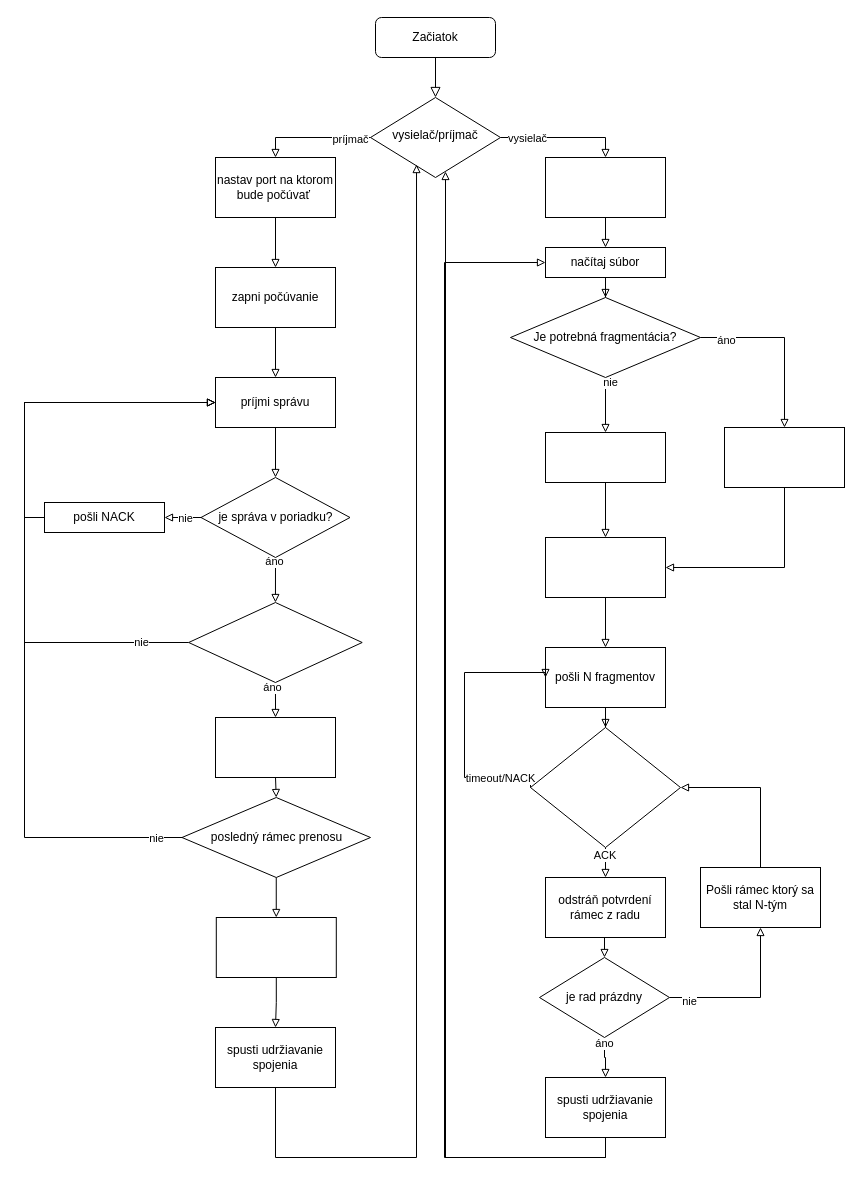
Image size: 862x1183. Some labels were removed from this diagram. Here are the shapes that lost their labels. From the top down, the box of each, then its label:
(544, 156, 666, 218): nastav ip adresu a port prijímača nastav veľkosť fragmentu
(544, 432, 666, 482): do fragmentov ulož jeden blok
(724, 426, 844, 488): rozdeľ súbor na fragmenty
(544, 536, 666, 598): pre každý fragement vlož do radu čakajúcich rámcov fragmenty
(188, 602, 362, 682): je to očakávaný rámec?
(214, 716, 336, 778): Pošli potvrdenie, spracuj správu
(530, 726, 680, 848): timeOut alebo NACK prijatie
(215, 916, 336, 978): ulož dáta do súboru
